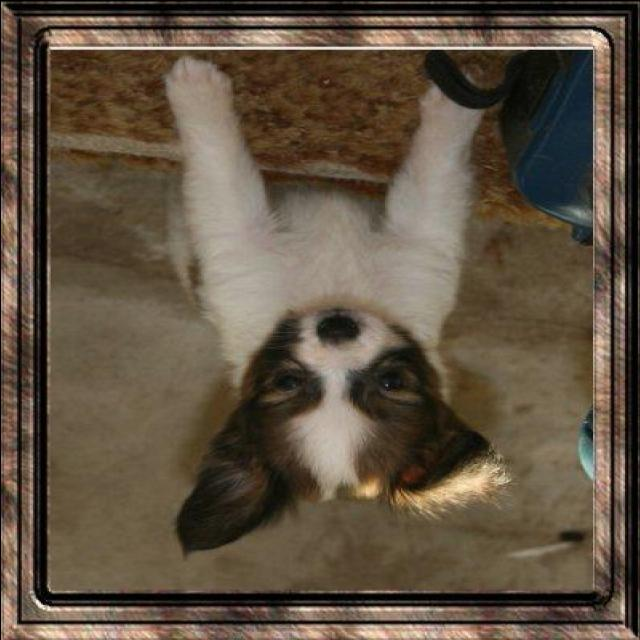papillon: (158, 54, 516, 562)
